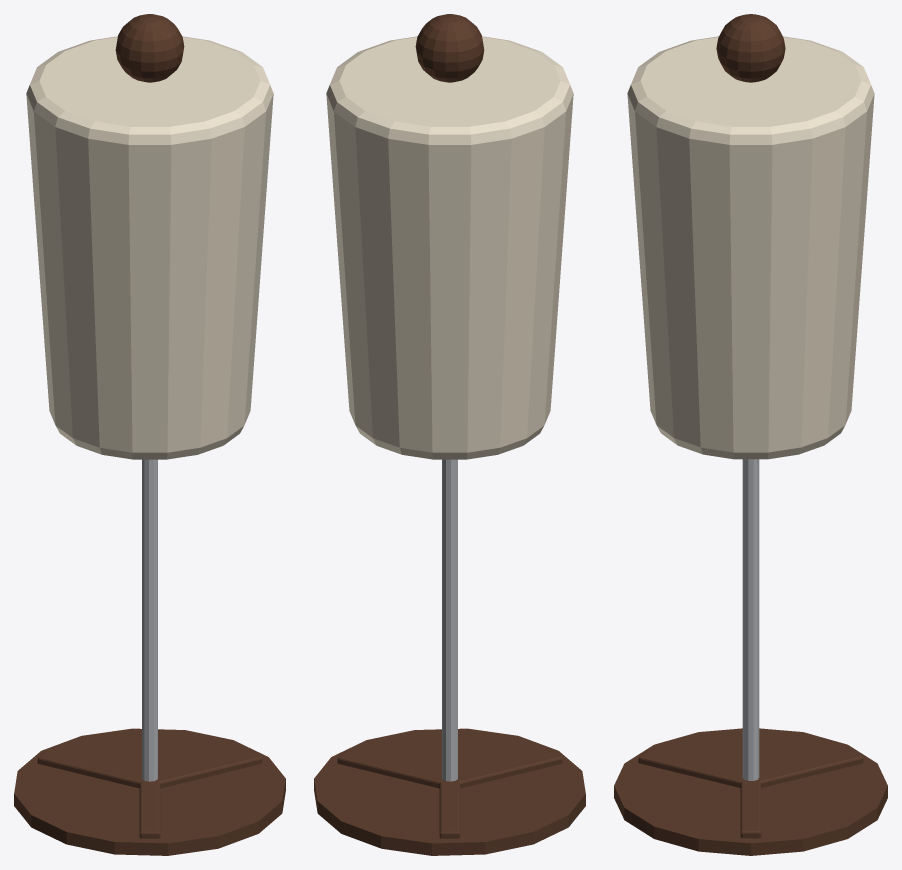
Rendered from hh_dressmaker_dummy.glb.
3 renders of one model, left to right at view 1: azimuth 30°, elevation 25°; view 2: azimuth 150°, elevation 25°; view 3: azimuth 270°, elevation 25°, orthographic.
Visible parts, largest first — view 1: torso, base, pole, top, foot, foot.001, foot.002; view 2: torso, base, pole, top, foot, foot.002, foot.001; view 3: torso, base, pole, top, foot.001, foot.002, foot.
Boxes of the visible parts, <box> form: torso: <box>26,36,273,459</box>; base: <box>14,728,285,855</box>; pole: <box>142,459,157,781</box>; top: <box>115,14,184,82</box>; foot: <box>154,751,262,788</box>; foot.001: <box>37,751,145,788</box>; foot.002: <box>139,781,160,838</box>; torso: <box>326,36,573,459</box>; base: <box>314,728,585,855</box>; pole: <box>442,459,457,781</box>; top: <box>415,14,484,82</box>; foot: <box>337,751,445,788</box>; foot.002: <box>454,751,562,788</box>; foot.001: <box>439,781,460,838</box>; torso: <box>627,36,874,459</box>; base: <box>614,728,887,855</box>; pole: <box>742,459,759,780</box>; top: <box>716,14,785,82</box>; foot.001: <box>757,750,863,787</box>; foot.002: <box>638,750,744,787</box>; foot: <box>740,780,761,838</box>.
Bounding box in the file's own units: 0.396 × 1.25 × 0.396.
